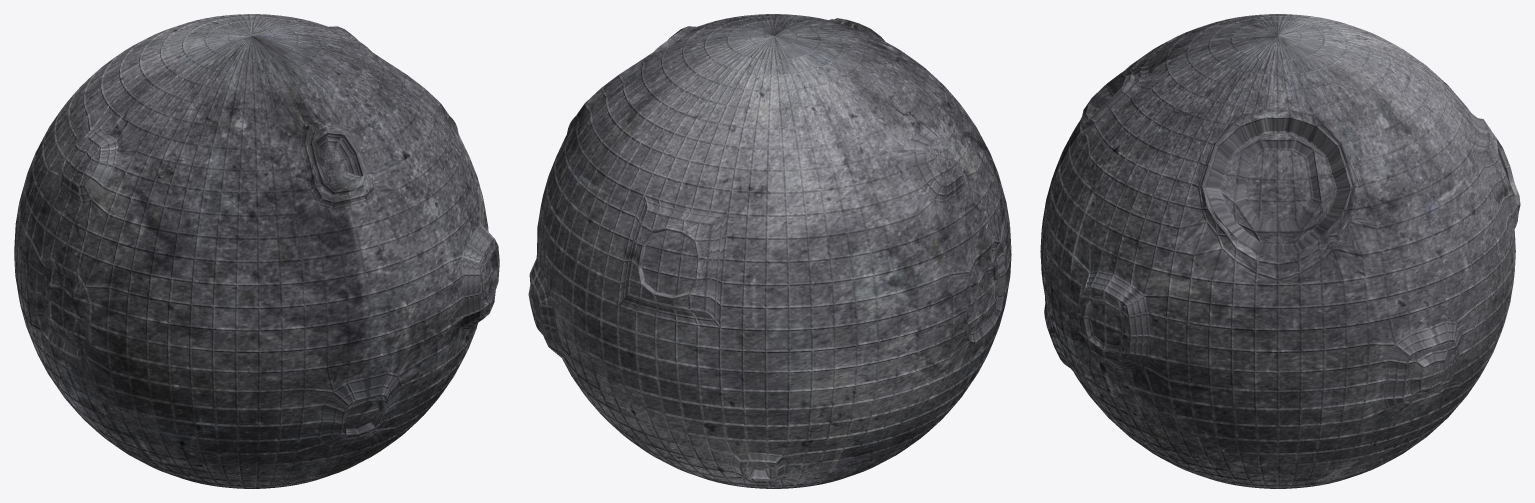
Rendered from Planet Boss.FBX.
The picture shows the model from 3 angles, left to right: view 1: azimuth 30°, elevation 25°; view 2: azimuth 150°, elevation 25°; view 3: azimuth 270°, elevation 25°; orthographic projection.
Visible parts, largest first — view 1: Sphere004; view 2: Sphere004; view 3: Sphere004.
Boxes of the visible parts, box(x1,y1,x2,y2) form: Sphere004: box(14, 14, 499, 488); Sphere004: box(528, 14, 1011, 488); Sphere004: box(1040, 14, 1520, 488).
Size of the model in its own units: 601 by 602 by 608.
1 material, 1 textured.
